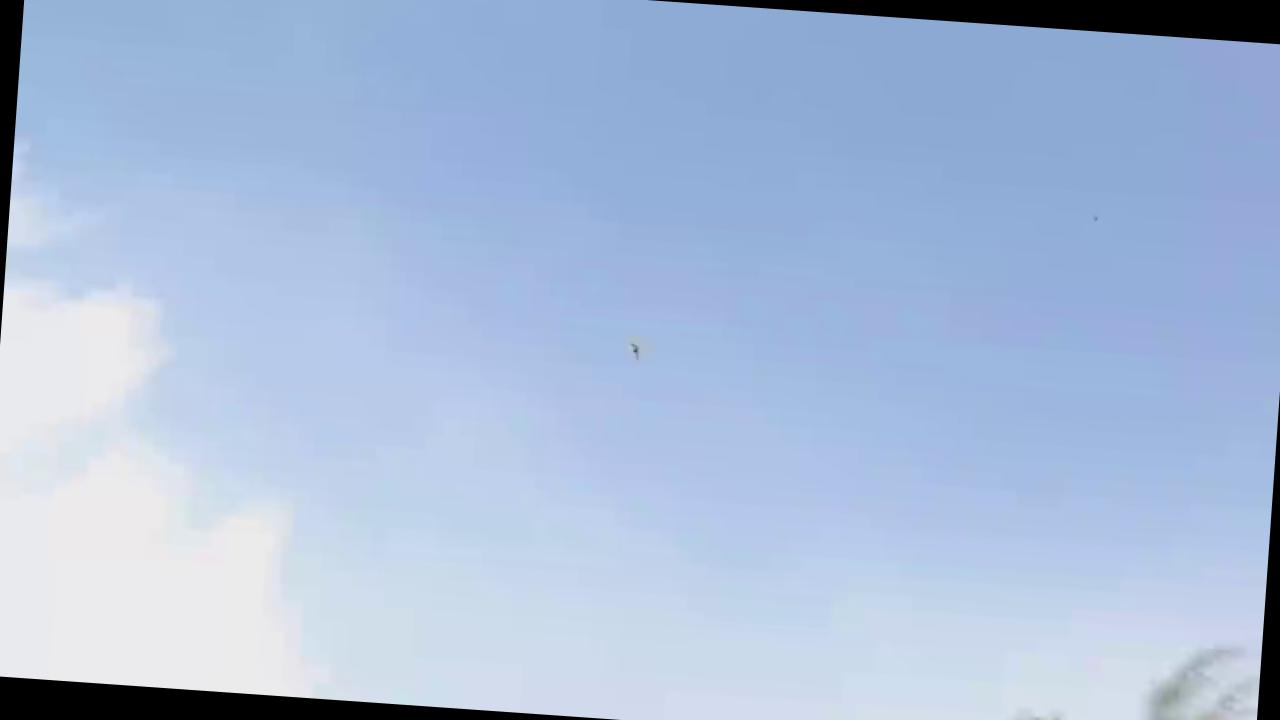drone: (615, 336, 648, 364)
